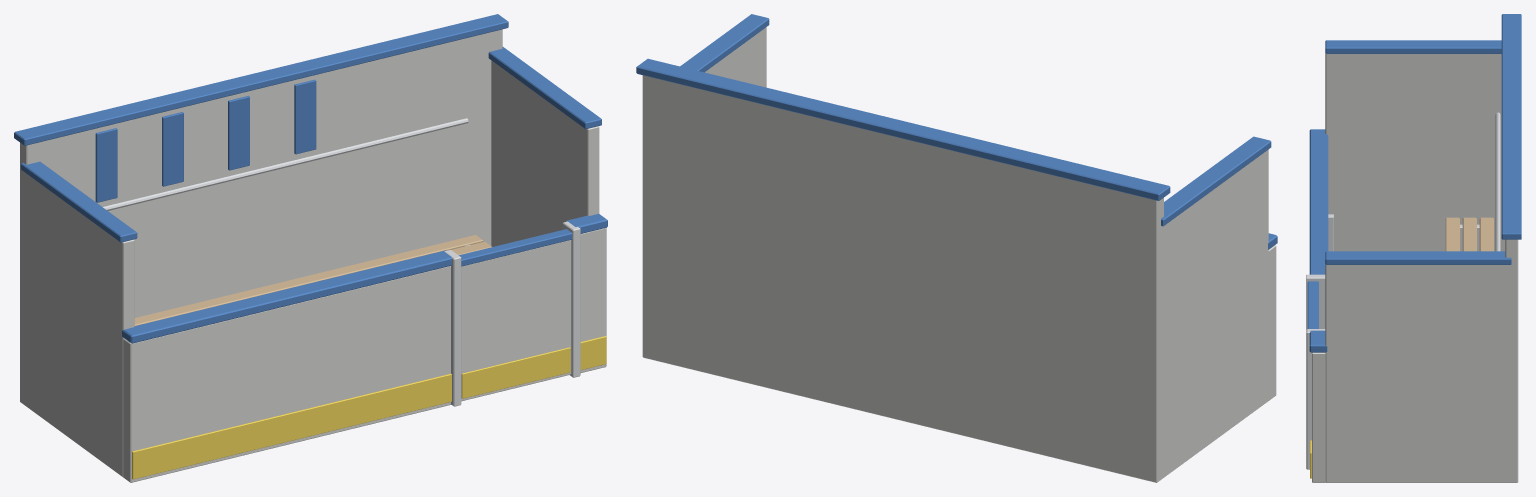
Rendered from ice-hockey-arena-and-locker-room-players-bench-3ae7f6da__33700.glb.
The picture shows the model from 3 angles, left to right: view 1: azimuth 30°, elevation 25°; view 2: azimuth 150°, elevation 25°; view 3: azimuth 270°, elevation 25°; orthographic projection. The views are drawn at different scales.
Parts seen in each view (by area): view 1: players-bench, bench-gate/white, bench-gate/yellow, bench-gate/blue; view 2: players-bench; view 3: players-bench, bench-gate/blue.
Boxes of the visible parts, x1,y1,x2,y2 form: players-bench: (14,14,607,482); bench-gate/white: (461,240,571,401); bench-gate/yellow: (461,347,570,398); bench-gate/blue: (459,229,572,266); players-bench: (636,14,1277,482); players-bench: (1306,14,1521,482); bench-gate/blue: (1307,281,1318,328).
Bounding box in the file's own units: 3.66 × 1.95 × 1.51.
